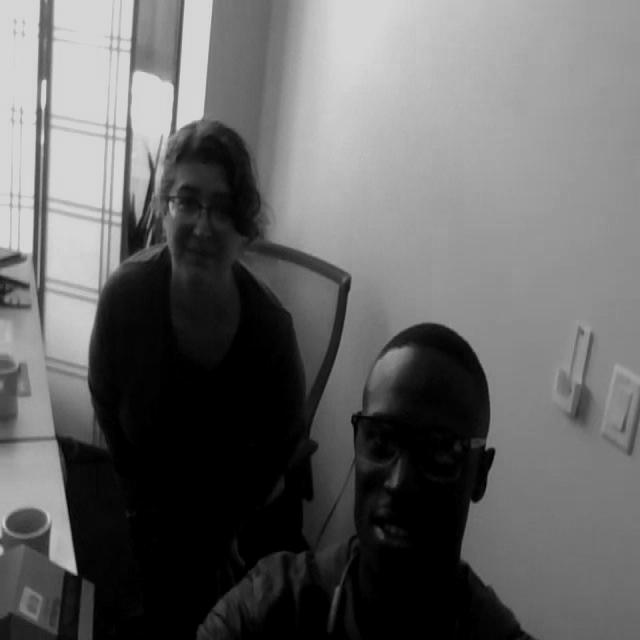real: (354, 342, 494, 594), (166, 157, 243, 294)
